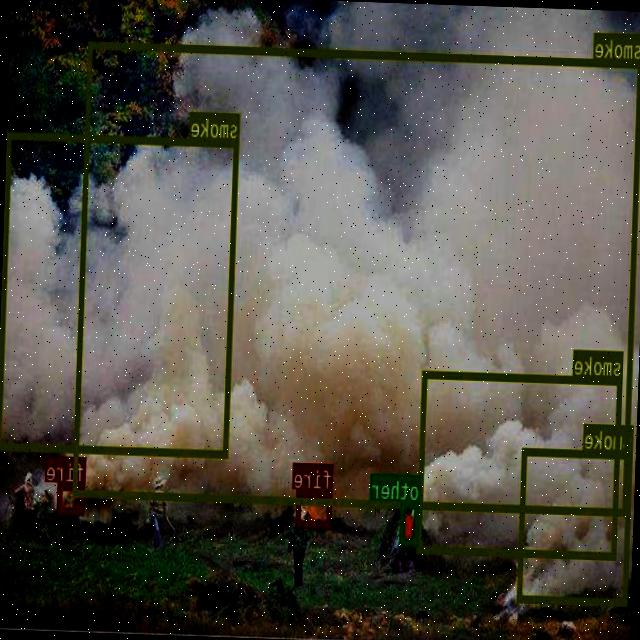fire: (296, 488, 333, 528), (58, 482, 84, 512)
smoke: (73, 39, 640, 514), (0, 130, 239, 455), (417, 370, 623, 558), (518, 448, 633, 604)
